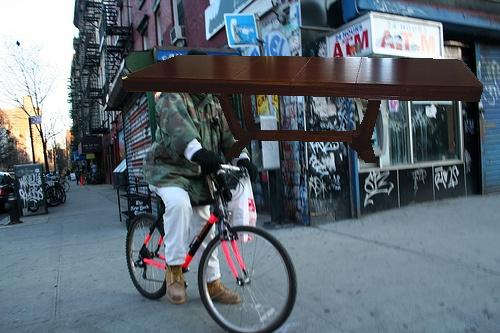tampered: (123, 56, 483, 163)
